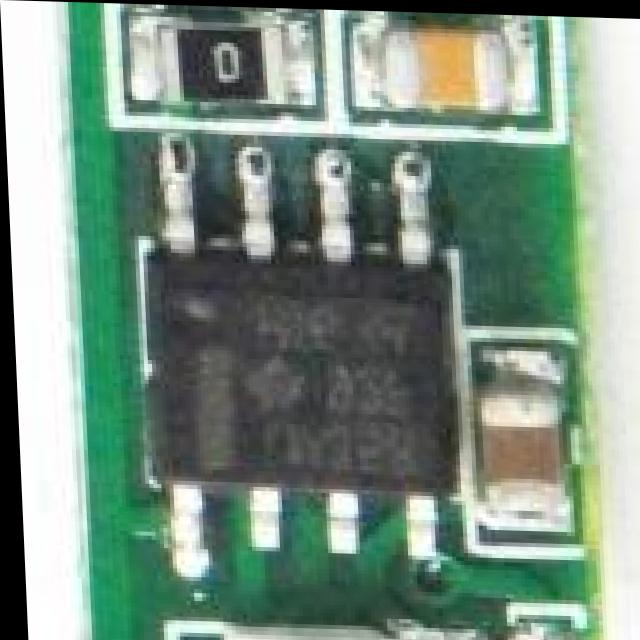IC: (106, 188, 478, 527)
capacitor: (458, 306, 591, 561), (352, 16, 539, 112)
potentiometer: (141, 607, 486, 640)
resistor: (121, 21, 267, 106)
